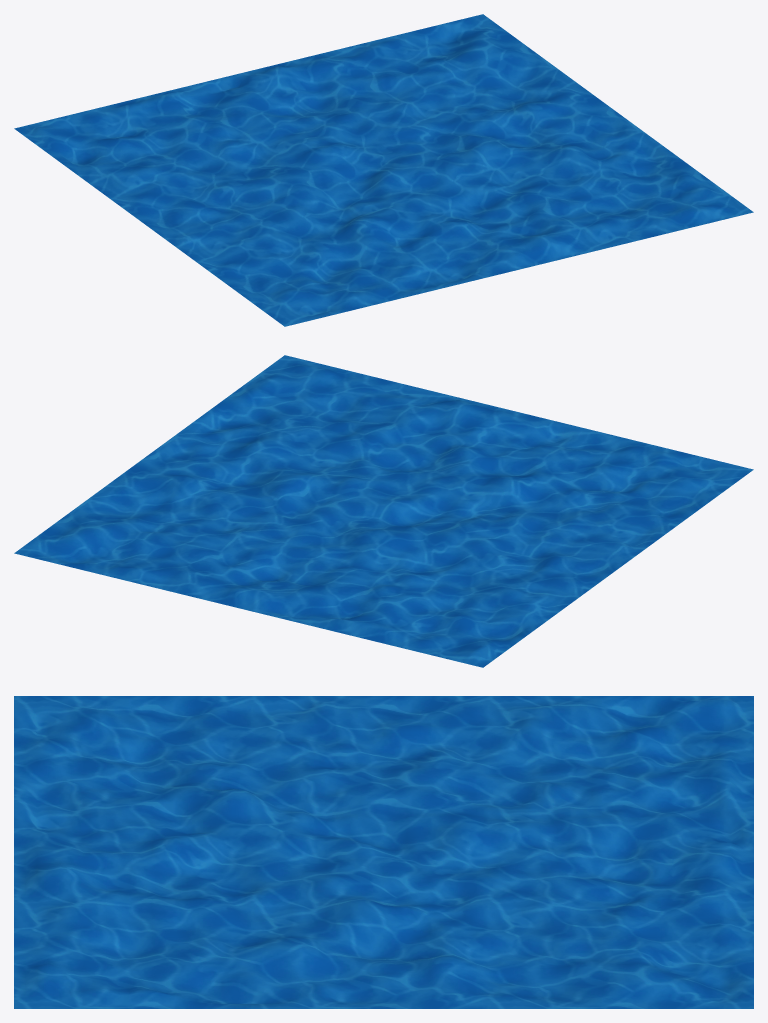
Rendered from water.glb.
3 views of the same model, one above another, from view 1: azimuth 30°, elevation 25°; view 2: azimuth 150°, elevation 25°; view 3: azimuth 270°, elevation 25° (orthographic). The views are drawn at different scales.
Parts seen in each view (by area): view 1: Plane.003; view 2: Plane.003; view 3: Plane.003.
Boxes of the visible parts, bbox=[...] form: Plane.003: bbox=[14, 14, 753, 326]; Plane.003: bbox=[14, 355, 753, 667]; Plane.003: bbox=[14, 696, 753, 1008].
Bounding box in the file's own units: 92.55 × 3.36 × 92.55.
Materials: 1 (1 with a texture image).
